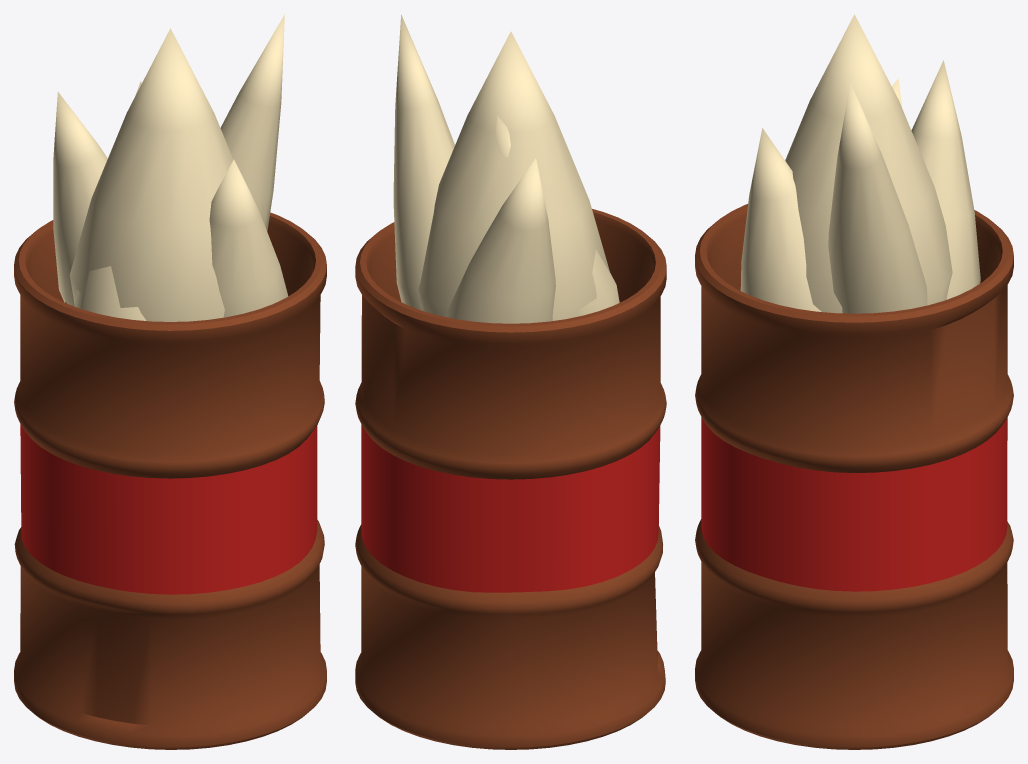
Rendered from A_FireBarrel.fbx.
3 renders of one model, left to right at view 1: azimuth 30°, elevation 25°; view 2: azimuth 150°, elevation 25°; view 3: azimuth 270°, elevation 25°, orthographic. The views are drawn at different scales.
Parts seen in each view (by area): view 1: Rust.001, Glow.001, Accent.006; view 2: Rust.001, Glow.001, Accent.006; view 3: Rust.001, Glow.001, Accent.006.
Boxes of the visible parts, bbox=[...] form: Rust.001: bbox=[14, 212, 326, 749]; Glow.001: bbox=[53, 14, 288, 321]; Accent.006: bbox=[20, 424, 317, 594]; Rust.001: bbox=[355, 209, 666, 749]; Glow.001: bbox=[393, 14, 619, 323]; Accent.006: bbox=[361, 424, 660, 592]; Rust.001: bbox=[695, 204, 1013, 749]; Glow.001: bbox=[740, 14, 980, 313]; Accent.006: bbox=[701, 417, 1007, 591].
Size of the model in its own units: 2 by 4.64 by 2.
